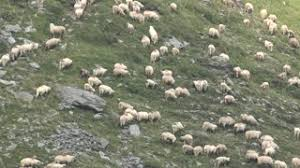sheep: (48, 21, 69, 38), (146, 24, 164, 41), (219, 113, 237, 130), (191, 79, 209, 95), (112, 66, 133, 79), (244, 127, 263, 141), (18, 156, 40, 168), (109, 4, 127, 18), (9, 43, 22, 62), (52, 154, 79, 163), (42, 37, 64, 48), (35, 83, 52, 97), (256, 154, 273, 168), (57, 56, 73, 70), (160, 131, 176, 145), (200, 119, 217, 132), (97, 84, 115, 96), (261, 38, 276, 52), (242, 146, 256, 161), (147, 108, 163, 121), (201, 143, 217, 156), (117, 113, 134, 125), (142, 62, 156, 76), (139, 32, 152, 47), (182, 141, 193, 157), (142, 78, 158, 89), (243, 1, 256, 14), (206, 43, 218, 57), (206, 25, 220, 37), (240, 67, 252, 79), (179, 84, 191, 96), (168, 1, 179, 13), (259, 79, 271, 90), (215, 22, 229, 31), (260, 6, 267, 24), (290, 155, 300, 167), (256, 51, 266, 61)
